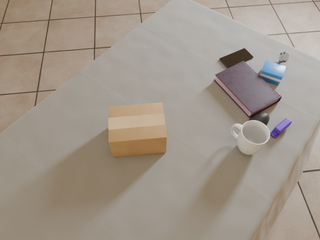book: (214, 61, 282, 118)
box: (109, 103, 167, 157), (260, 61, 286, 85)
cup: (231, 120, 270, 155)
mouse: (249, 113, 269, 125)
phone: (220, 48, 253, 68)
toy_car: (270, 118, 291, 138), (279, 52, 289, 63)
